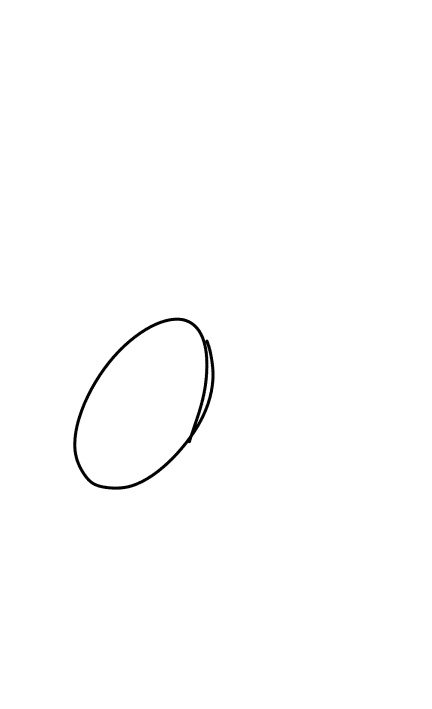Circle: (69, 314, 218, 495)
